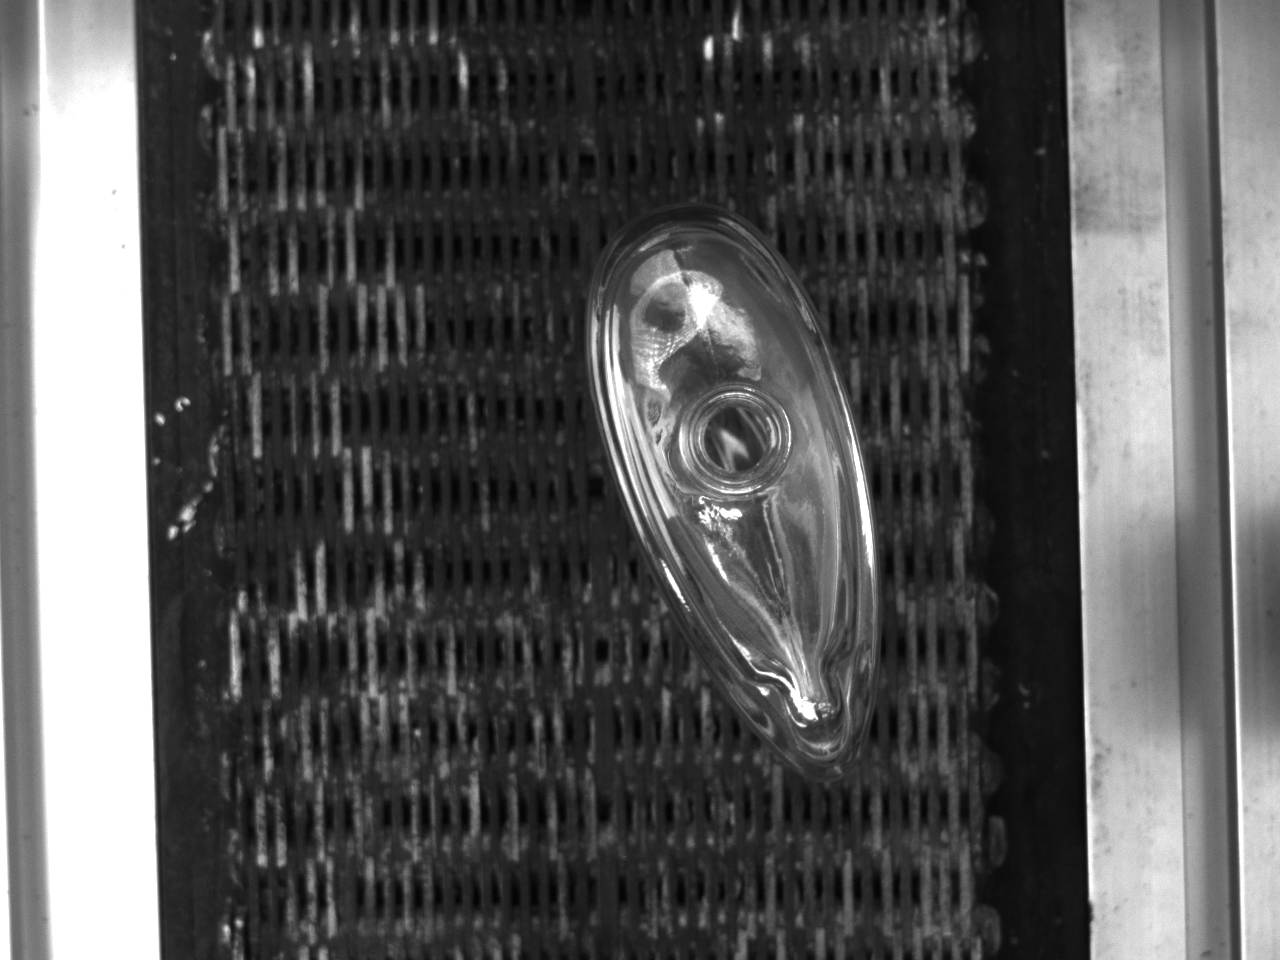bottleneck: (686, 385, 791, 493)
